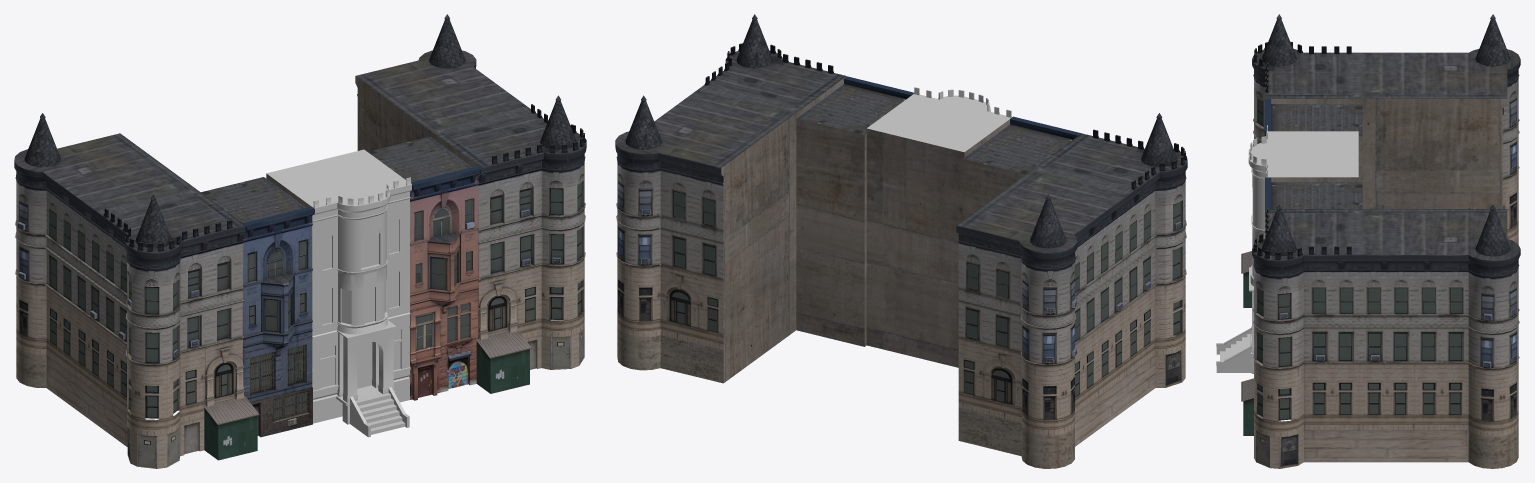
3 views of the same model, side by side, from view 1: azimuth 30°, elevation 25°; view 2: azimuth 150°, elevation 25°; view 3: azimuth 270°, elevation 25° (orthographic). The views are drawn at different scales.
Visible parts, largest first — view 1: jg.004, jg.006, jg.001, jg.002, jg.003, jg.005; view 2: jg.004, jg.003, jg.006, jg.001; view 3: jg.004, jg.003, jg.001, jg.006, jg.002.
Part boxes in pixels (left/top/right/bottom): jg.004: left=14, top=14, right=586, bottom=468; jg.006: left=201, top=136, right=480, bottom=437; jg.001: left=266, top=149, right=411, bottom=437; jg.002: left=203, top=329, right=531, bottom=460; jg.003: left=144, top=76, right=480, bottom=377; jg.005: left=250, top=345, right=309, bottom=420; jg.004: left=615, top=14, right=1187, bottom=468; jg.003: left=721, top=76, right=1025, bottom=382; jg.006: left=797, top=76, right=1081, bottom=174; jg.001: left=867, top=87, right=1011, bottom=152; jg.004: left=1252, top=14, right=1520, bottom=468; jg.003: left=1265, top=98, right=1507, bottom=368; jg.001: left=1216, top=125, right=1358, bottom=373; jg.006: left=1264, top=99, right=1362, bottom=213; jg.002: left=1241, top=251, right=1253, bottom=435.
Bounding box in the file's own units: 188 × 104 × 113.
